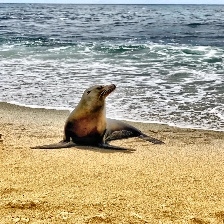seal: (61, 84, 152, 147)
